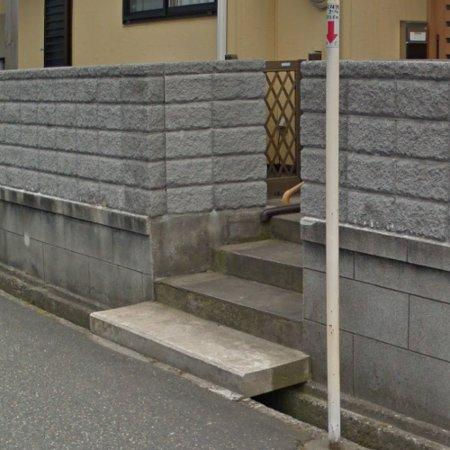stairs: (90, 215, 311, 399)
